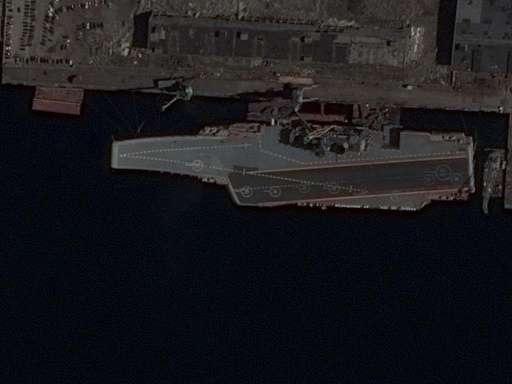ship: (110, 117, 476, 212)
